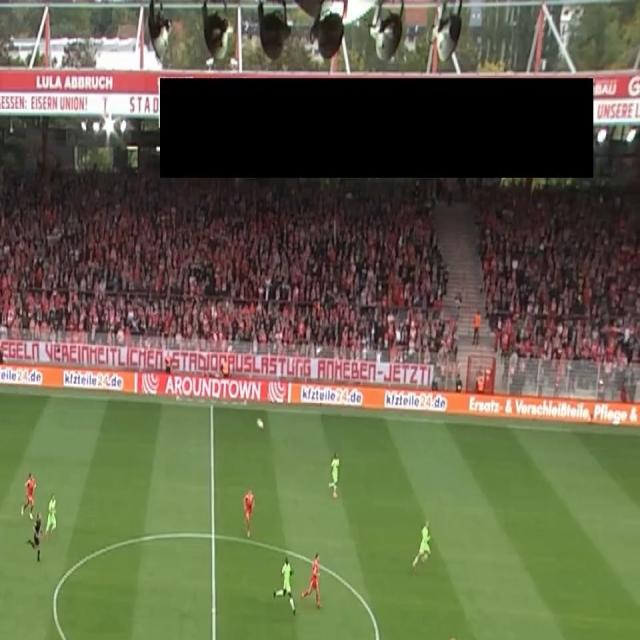ball: (256, 417, 264, 430)
